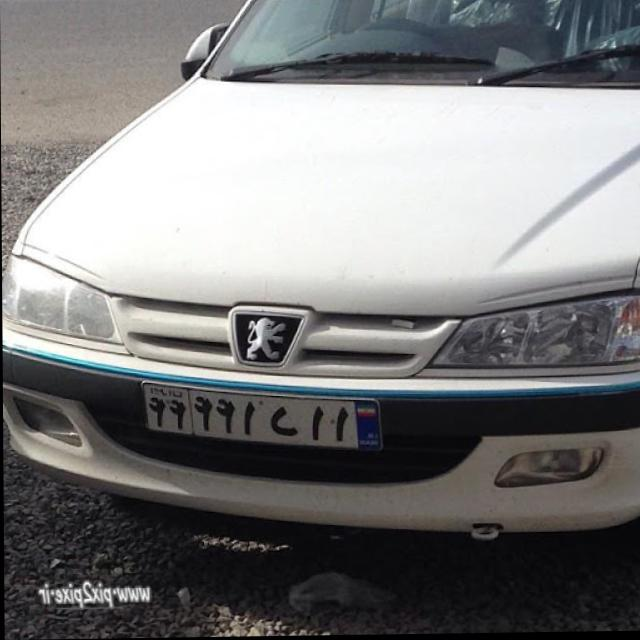licence: (144, 377, 385, 455)
